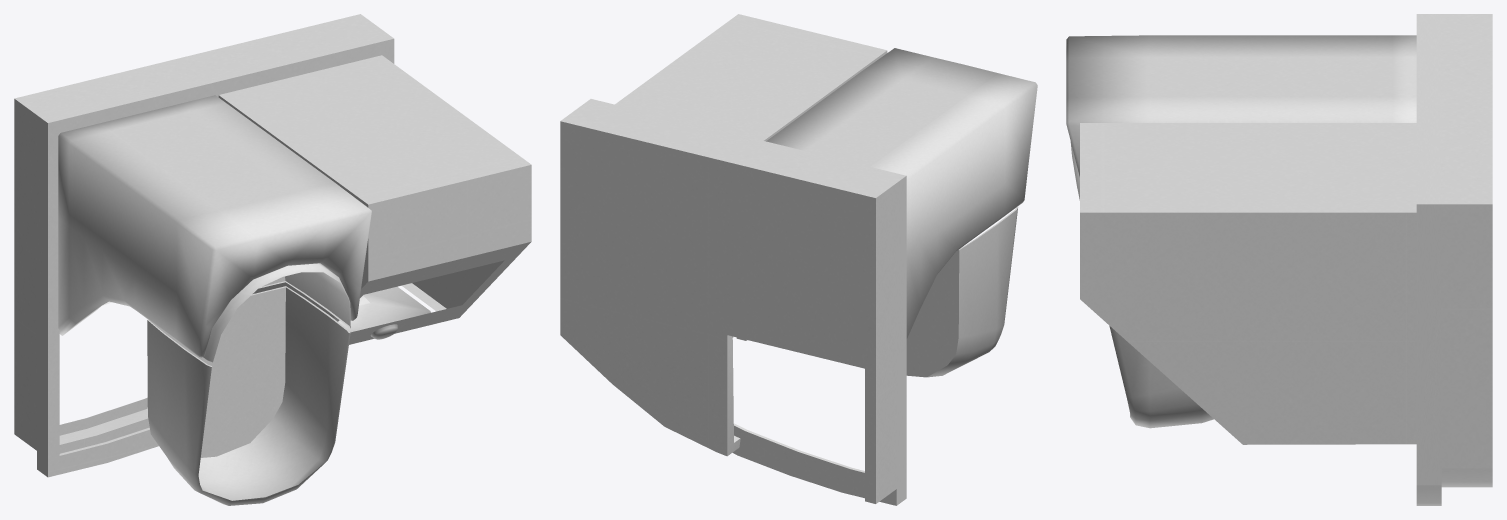
Rendered from CoffeeMachine_21_CoffeeMachine_21_0_GeomSubset_0.obj.
3 renders of one model, left to right at view 1: azimuth 30°, elevation 25°; view 2: azimuth 150°, elevation 25°; view 3: azimuth 270°, elevation 25°, orthographic. The views are drawn at different scales.
Parts seen in each view (by area): view 1: CoffeeMachine_21_CoffeeMachine_21_0_GeomSubset_0; view 2: CoffeeMachine_21_CoffeeMachine_21_0_GeomSubset_0; view 3: CoffeeMachine_21_CoffeeMachine_21_0_GeomSubset_0.
Part boxes in pixels (box(x1,y1,x2,y2)): CoffeeMachine_21_CoffeeMachine_21_0_GeomSubset_0: box(14, 14, 531, 505); CoffeeMachine_21_CoffeeMachine_21_0_GeomSubset_0: box(560, 14, 1037, 505); CoffeeMachine_21_CoffeeMachine_21_0_GeomSubset_0: box(1066, 14, 1492, 505).
Bounding box in the file's own units: 0.4351 × 0.4253 × 0.4121.
